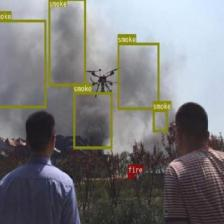fire: (127, 172, 134, 178)
smoke: (0, 19, 46, 108), (48, 0, 86, 86), (117, 43, 159, 110), (73, 92, 112, 148), (152, 109, 168, 132)
